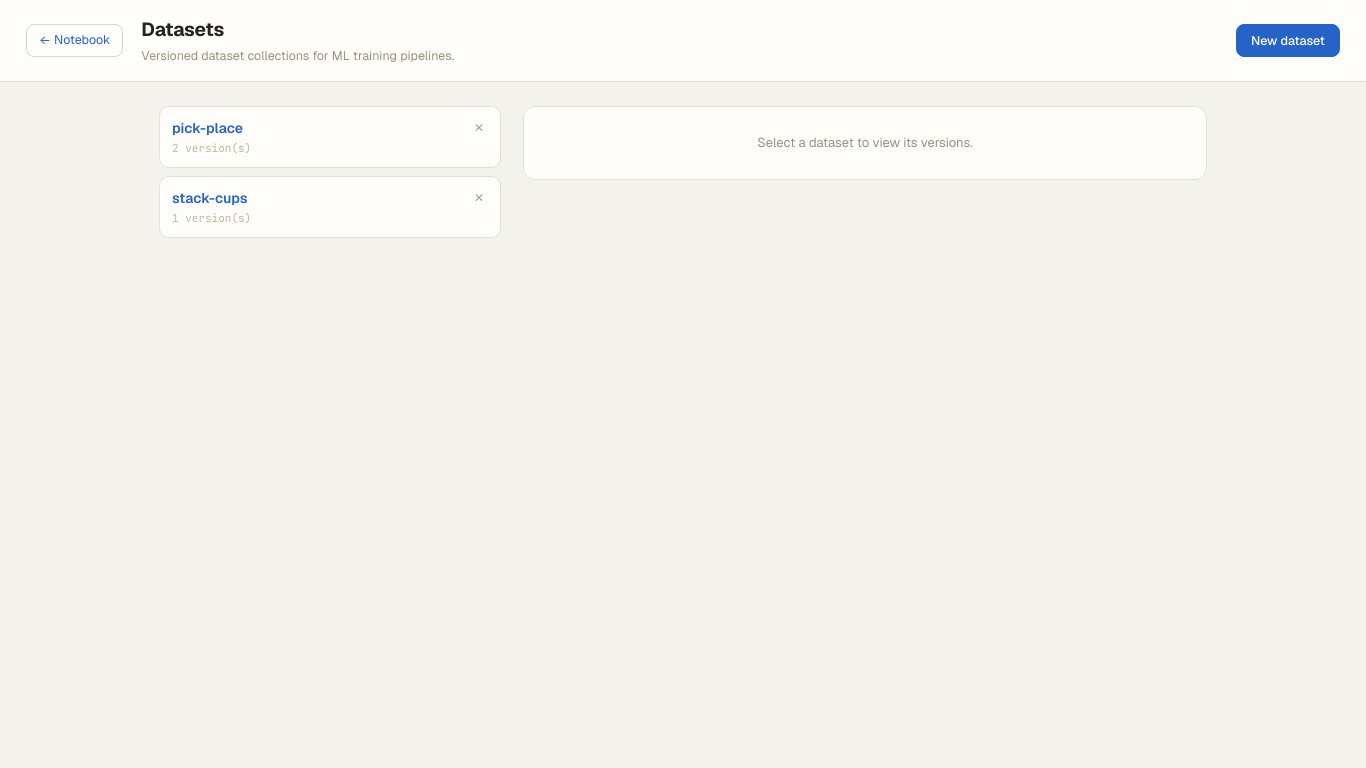
Test: notebook Datasets page › keeps the error on screen when another dataset is selected
The width and height of the screenshot is (1366, 768).
Step 1. Click the text "pick-place" → [208, 128], box [172, 119, 243, 137]
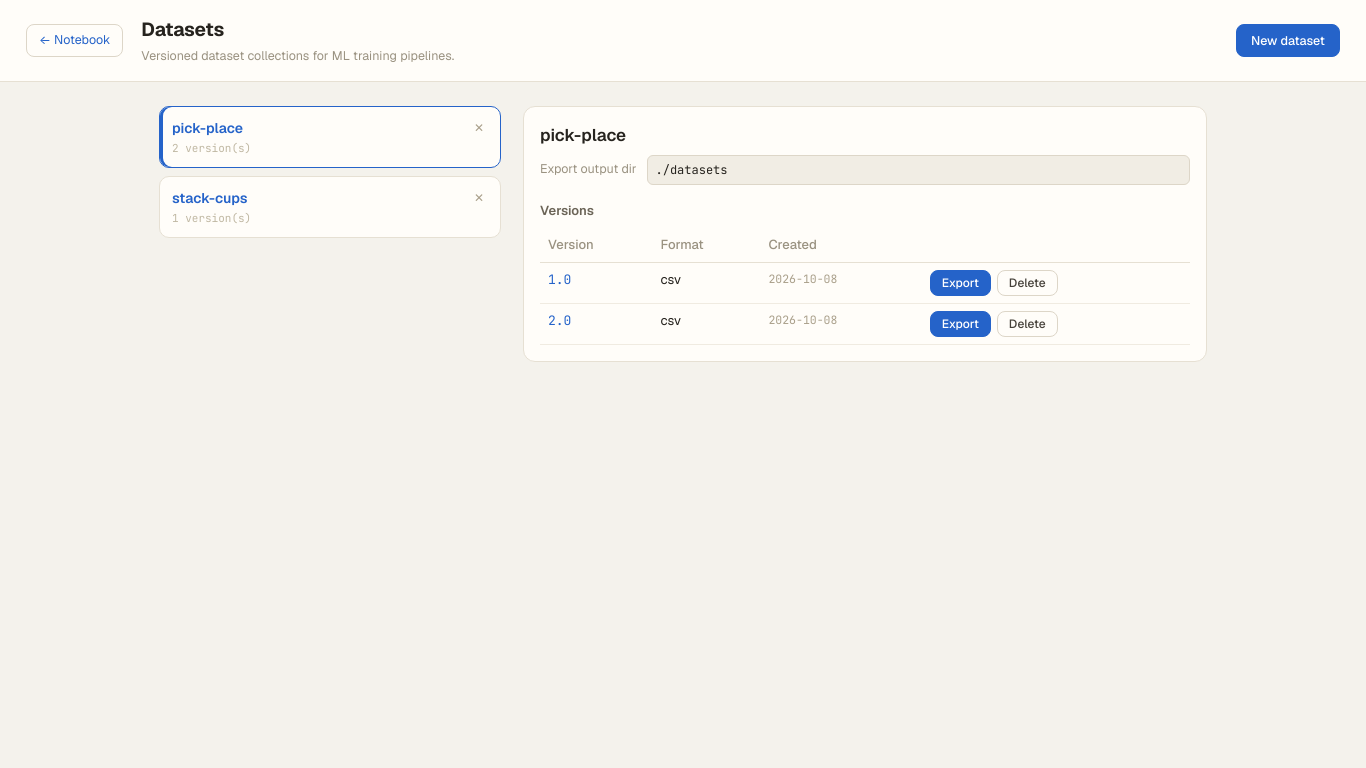
Step 2. Click the button "Export" in the row of "1.0" → [960, 283], box [930, 270, 991, 296]
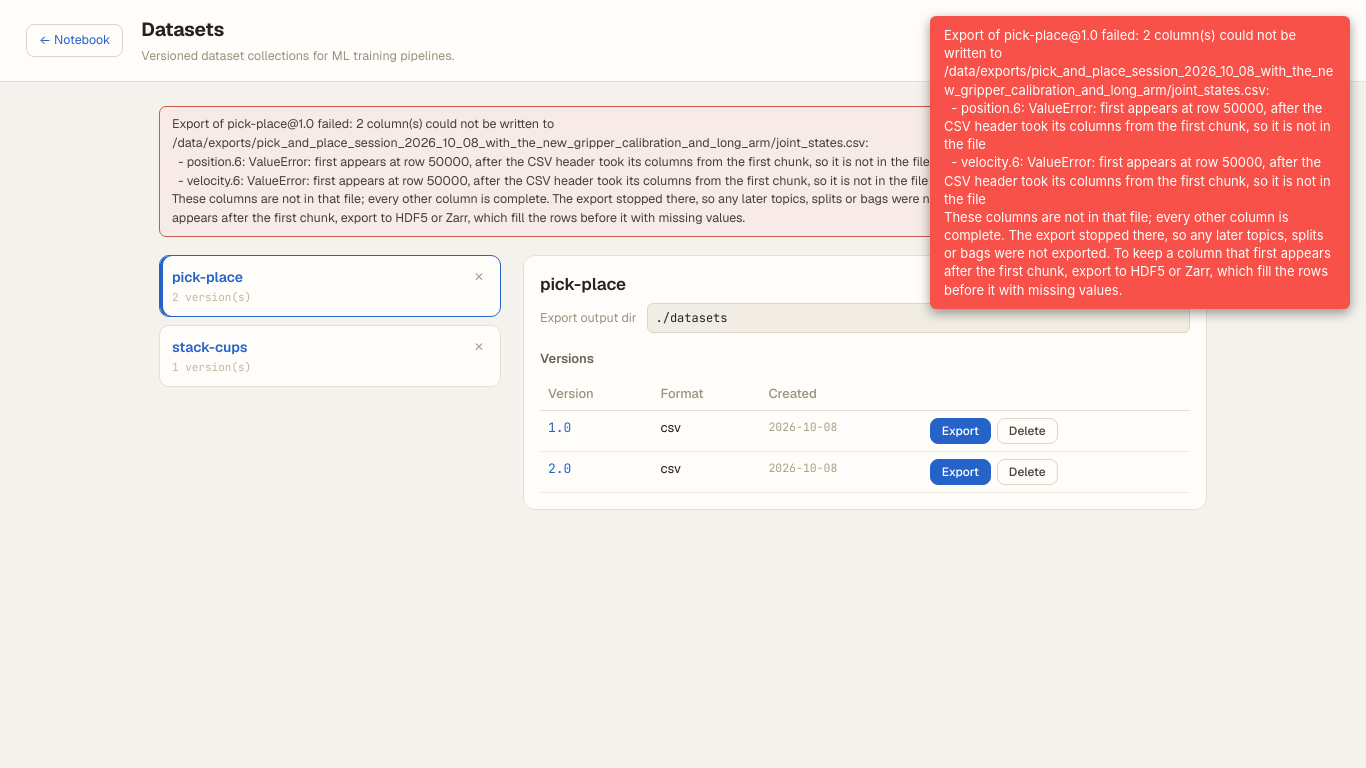
Step 3. Click the text "stack-cups" → [210, 347], box [172, 338, 248, 356]
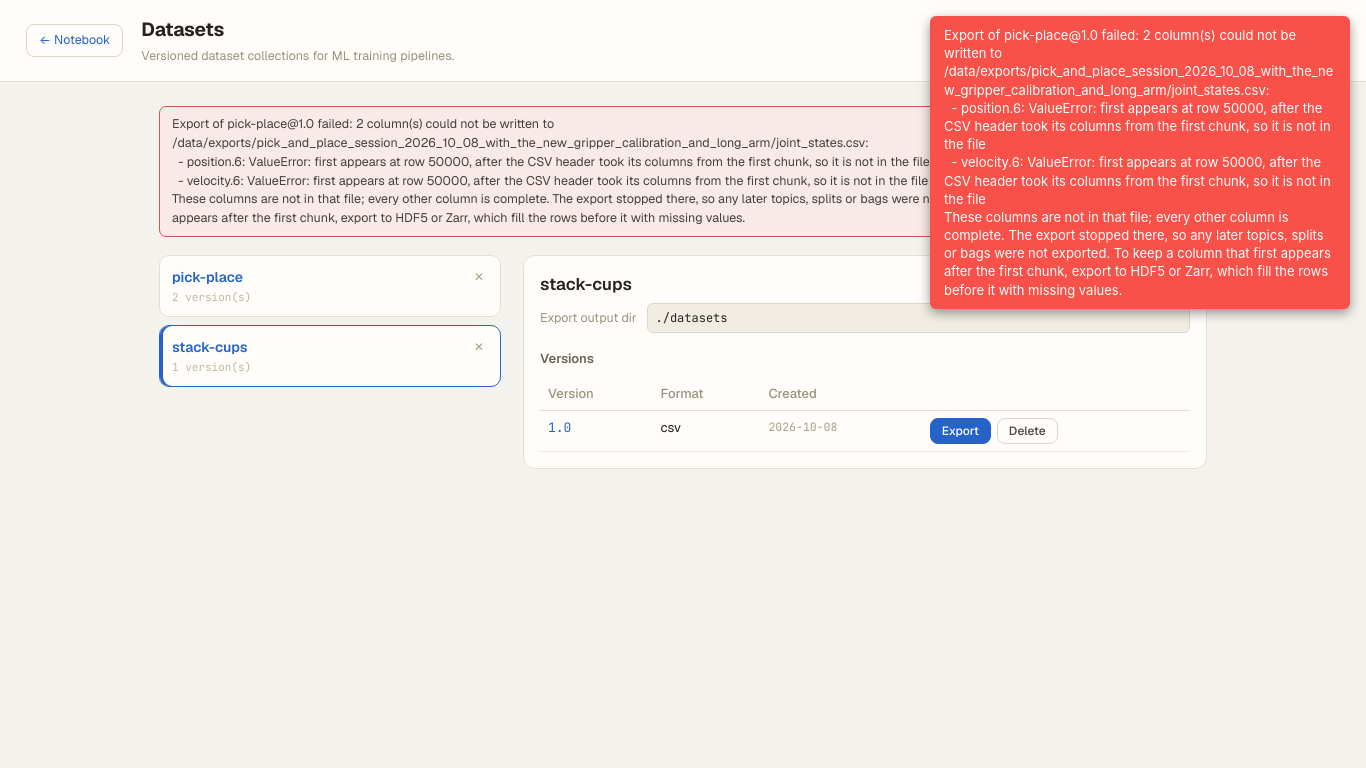
Now the heading "stack-cups" is shown, box [540, 273, 632, 295]
